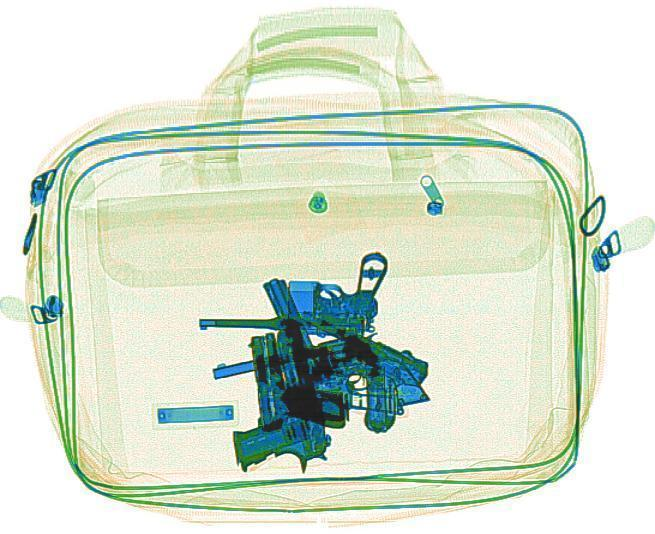Gun: (207, 321, 434, 423), (211, 325, 335, 477), (198, 252, 387, 330), (268, 316, 348, 433)
